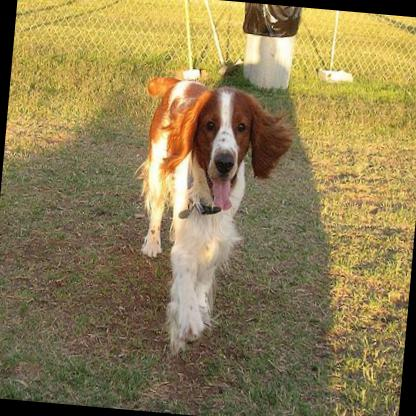Welsh_springer_spaniel: (121, 74, 294, 361)
